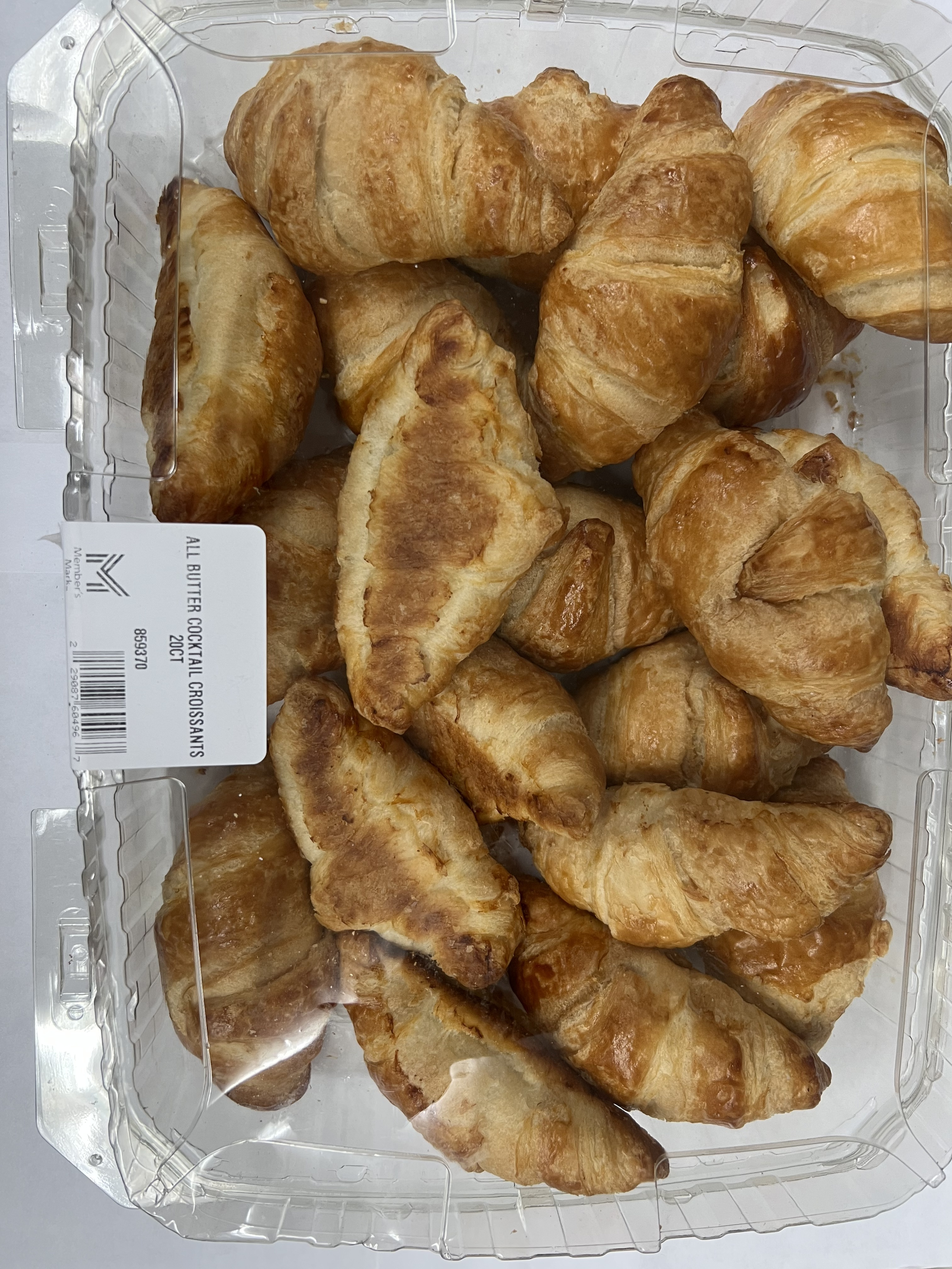bakery: (73, 32, 942, 1237)
